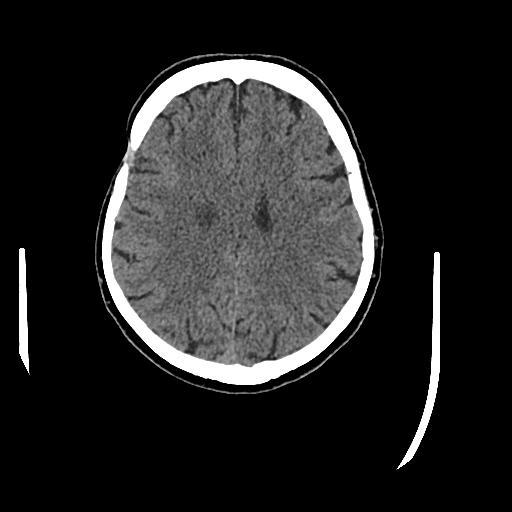Normal_Brain: (76, 45, 407, 404)
